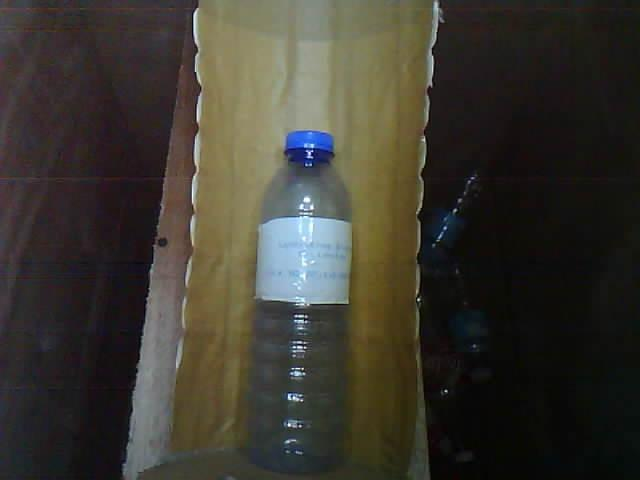small_bottle: (232, 122, 369, 480)
